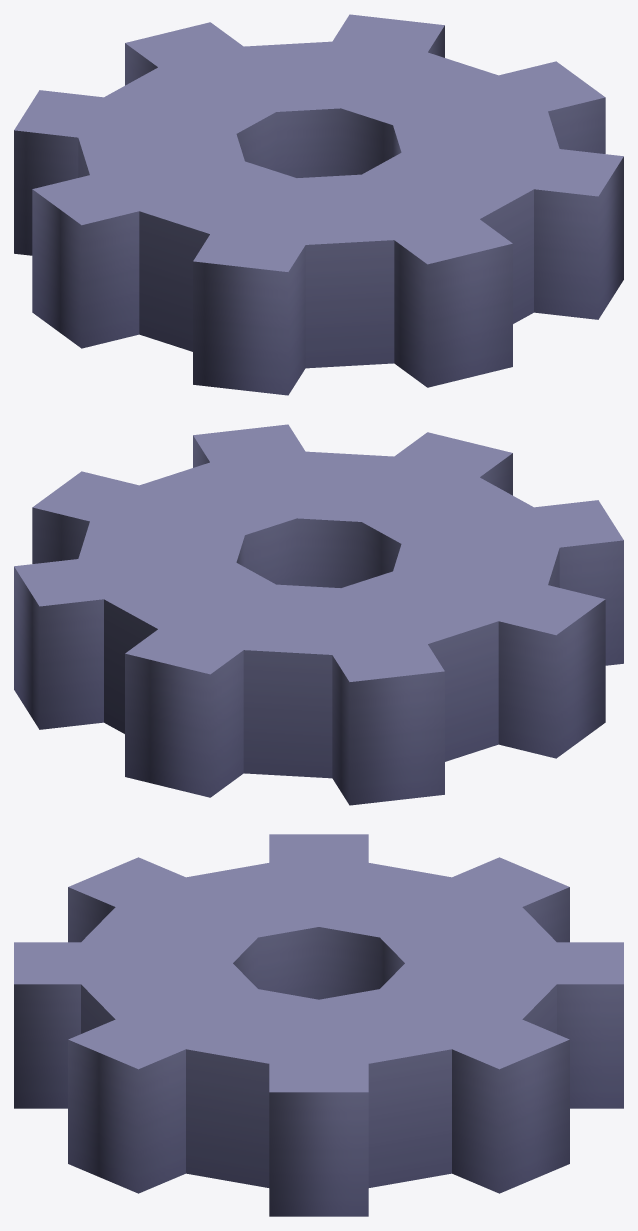
Rendered from cog-a.glb.
3 renders of one model, top to bottom at view 1: azimuth 30°, elevation 25°; view 2: azimuth 150°, elevation 25°; view 3: azimuth 270°, elevation 25°, orthographic.
Parts seen in each view (by area): view 1: cog-a; view 2: cog-a; view 3: cog-a.
Part boxes in pixels (x1,y1,x2,y2): cog-a: [14, 14, 623, 395]; cog-a: [14, 424, 623, 805]; cog-a: [14, 834, 623, 1216].
Size of the model in its own units: 1 by 0.225 by 1.
1 material, 1 textured.
